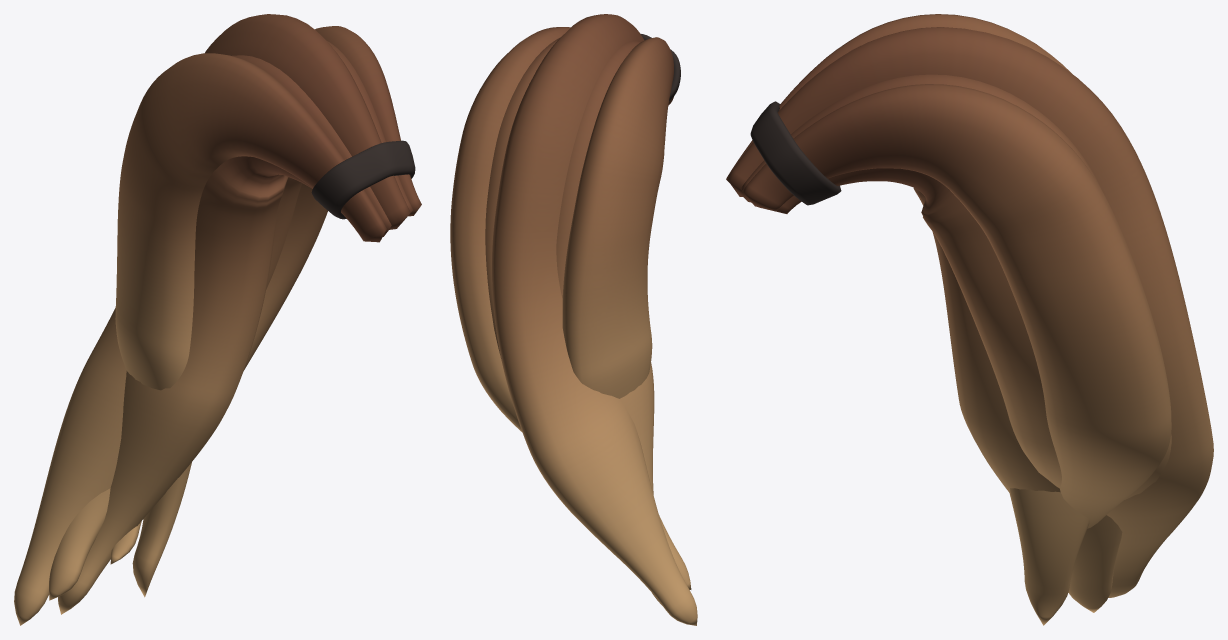
The model's file is ponytail-beanie-ombre.glb.
The picture shows the model from 3 angles, left to right: view 1: azimuth 30°, elevation 25°; view 2: azimuth 150°, elevation 25°; view 3: azimuth 270°, elevation 25°; orthographic projection. The views are drawn at different scales.
Visible parts, largest first — view 1: Hair / rounded tail220 0, Hair / rounded tail220 1, Hair / rounded tail220 2, Hair / rounded tail220 3, Hair / rounded tail220 4, Hair / tie220; view 2: Hair / rounded tail220 2, Hair / rounded tail220 0, Hair / rounded tail220 4, Hair / rounded tail220 1, Hair / rounded tail220 3, Hair / tie220; view 3: Hair / rounded tail220 4, Hair / rounded tail220 2, Hair / rounded tail220 3, Hair / rounded tail220 1, Hair / rounded tail220 0, Hair / tie220.
Part boxes in pixels (<box>): Hair / rounded tail220 0: <box>115,53,386,597</box>; Hair / rounded tail220 1: <box>58,55,391,614</box>; Hair / rounded tail220 2: <box>14,14,410,625</box>; Hair / rounded tail220 3: <box>49,40,412,600</box>; Hair / rounded tail220 4: <box>110,26,421,564</box>; Hair / tie220: <box>311,140,415,219</box>; Hair / rounded tail220 2: <box>492,14,697,625</box>; Hair / rounded tail220 0: <box>562,37,673,398</box>; Hair / rounded tail220 4: <box>450,27,570,431</box>; Hair / rounded tail220 1: <box>556,40,662,605</box>; Hair / rounded tail220 3: <box>485,37,691,589</box>; Hair / tie220: <box>640,33,680,100</box>; Hair / rounded tail220 4: <box>742,84,1171,528</box>; Hair / rounded tail220 2: <box>726,27,1213,597</box>; Hair / rounded tail220 3: <box>740,74,1171,499</box>; Hair / rounded tail220 1: <box>913,187,1122,612</box>; Hair / rounded tail220 0: <box>726,14,1089,625</box>; Hair / tie220: <box>750,101,841,205</box>.
Size of the model in its own units: 0.2112 by 0.4144 by 0.269.
Materials: 6 (5 with a texture image).
